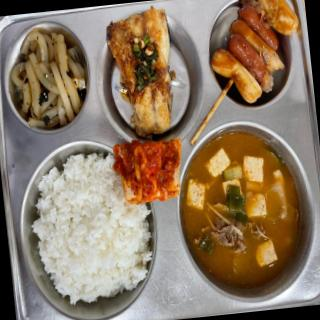Nasi: (20, 148, 127, 303)
